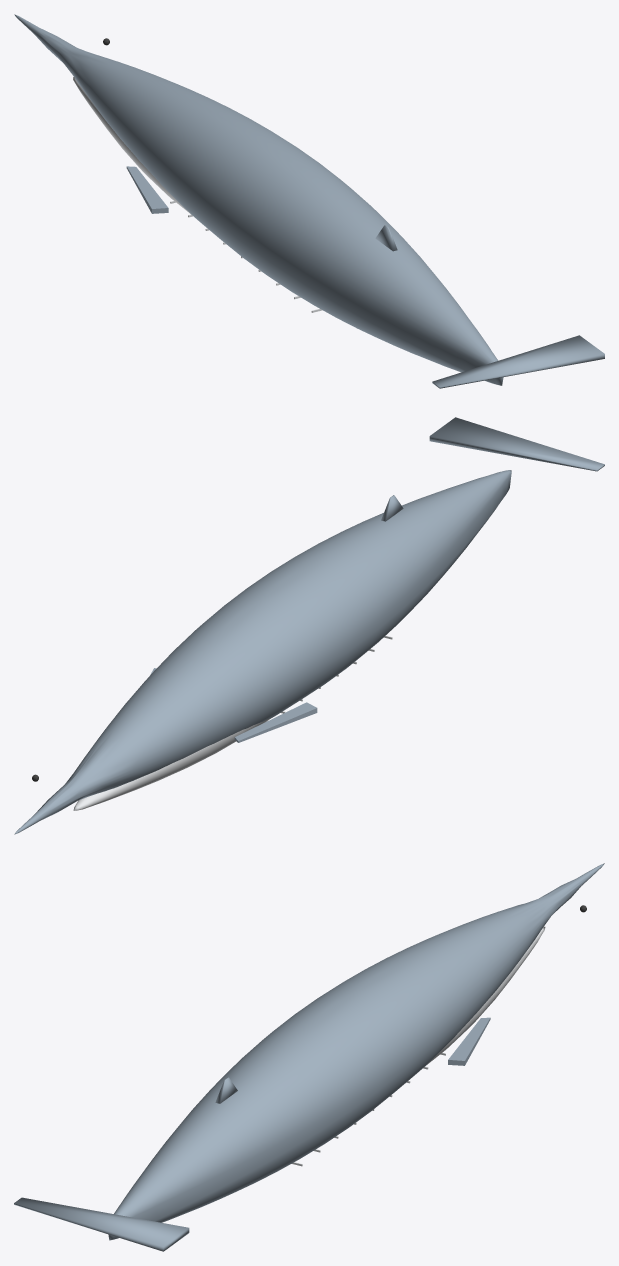
Rendered from blue_whale.glb.
The picture shows the model from 3 angles, top to bottom: view 1: azimuth 30°, elevation 25°; view 2: azimuth 150°, elevation 25°; view 3: azimuth 330°, elevation 25°; orthographic projection.
Parts seen in each view (by area): view 1: blue_whale; view 2: blue_whale; view 3: blue_whale.
Boxes of the visible parts, left/top/right/bottom form: blue_whale: left=14, top=14, right=604, bottom=388; blue_whale: left=14, top=417, right=604, bottom=834; blue_whale: left=14, top=863, right=604, bottom=1251.
Bounding box in the file's own units: 4.74 × 3.23 × 26.16.
